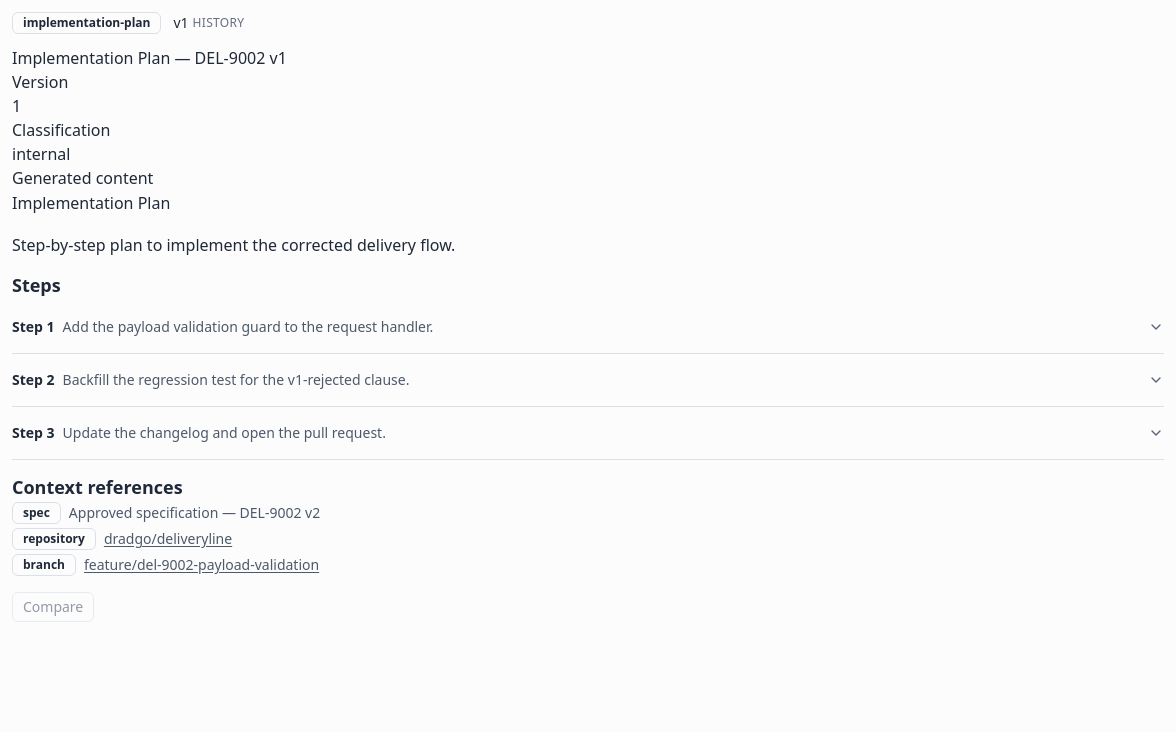
Test: ImplementationPlanArtifactRenderer › AC8 — a step expands and collapses via mouse (click)
This screenshot has width=1176, height=732.
Click the button with test id "artifact-plan-step-trigger-1": {"x": 29, "y": 326} x1=12 y1=300 x2=1164 y2=352
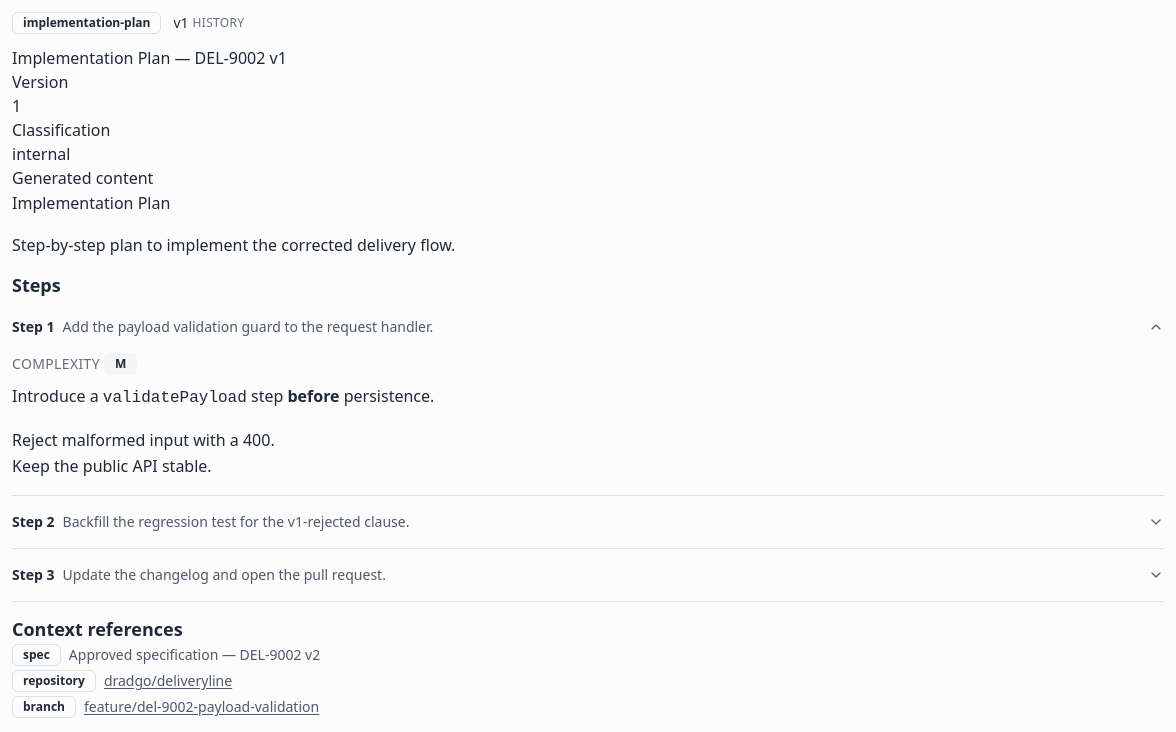
Expected: the button with test id "artifact-plan-step-trigger-1" is expanded
Expected: the element with test id "artifact-plan-step-complexity-1" shows "m", x1=115 y1=354 x2=126 y2=372
Expected: the element with test id "artifact-plan-step-content-1" is shown, x1=12 y1=352 x2=434 y2=476
Click the button with test id "artifact-plan-step-trigger-1": {"x": 29, "y": 326} x1=12 y1=300 x2=1164 y2=352
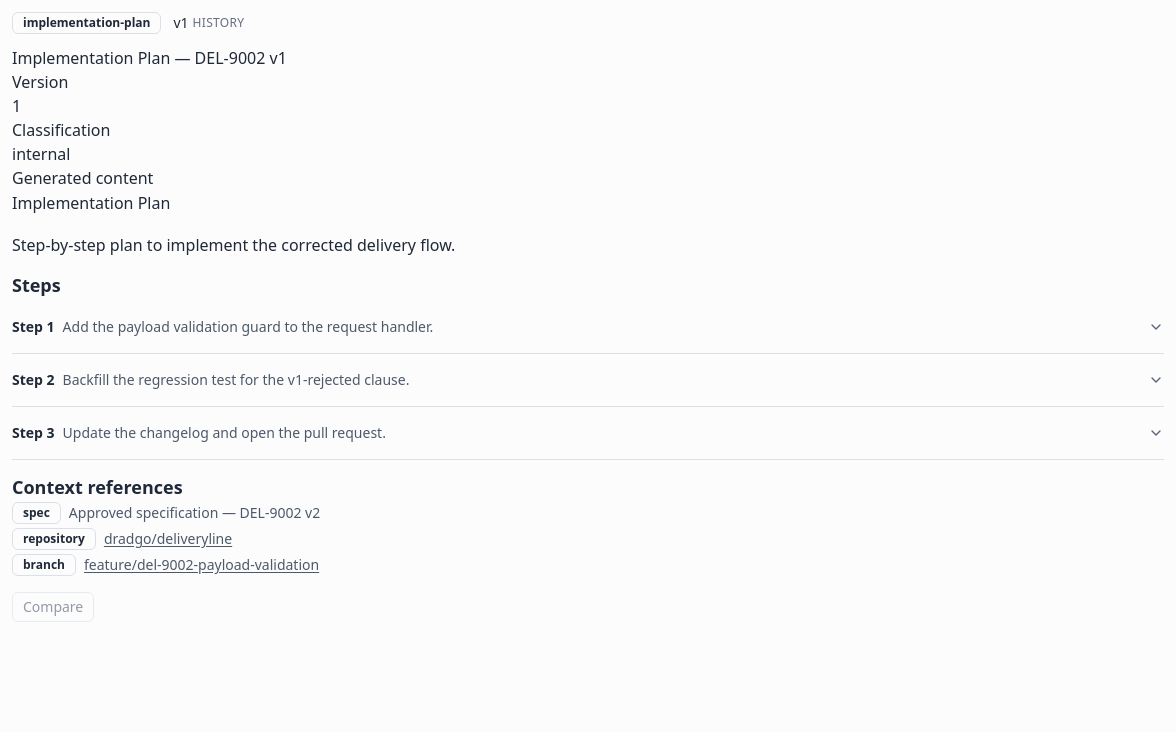
Expected: the button with test id "artifact-plan-step-trigger-1" is collapsed, x1=12 y1=300 x2=1164 y2=352
